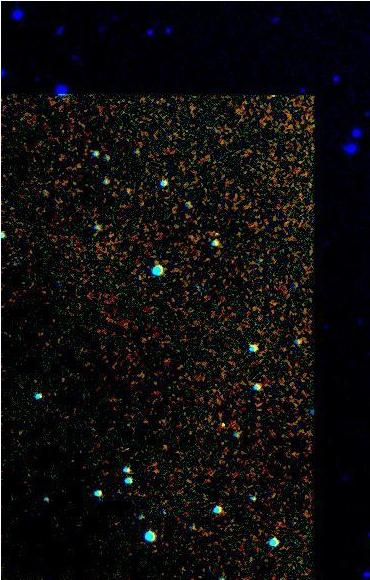star: (209, 409, 239, 439)
